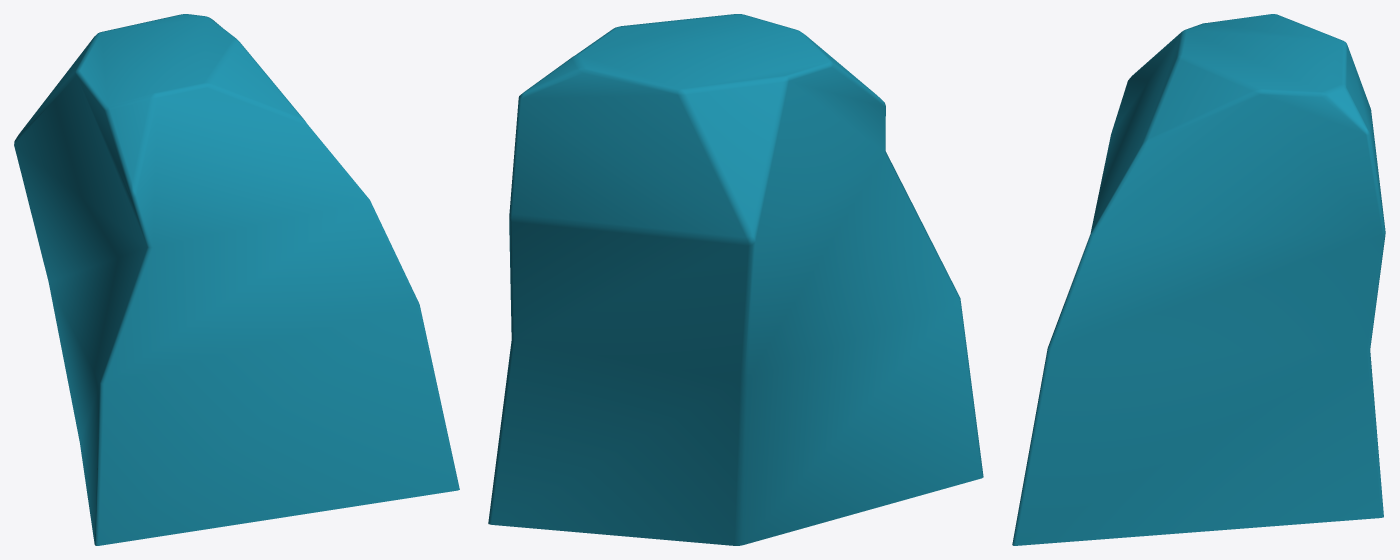
The model's file is Stone2.fbx.
The picture shows the model from 3 angles, left to right: view 1: azimuth 30°, elevation 25°; view 2: azimuth 150°, elevation 25°; view 3: azimuth 270°, elevation 25°; orthographic projection. The views are drawn at different scales.
Parts seen in each view (by area): view 1: Stone2_Lp; view 2: Stone2_Lp; view 3: Stone2_Lp.
Boxes of the visible parts, <box> form: Stone2_Lp: <box>14,14,459,545</box>; Stone2_Lp: <box>488,14,983,545</box>; Stone2_Lp: <box>1012,14,1385,545</box>.
Size of the model in its own units: 48.98 by 55.06 by 46.19.
